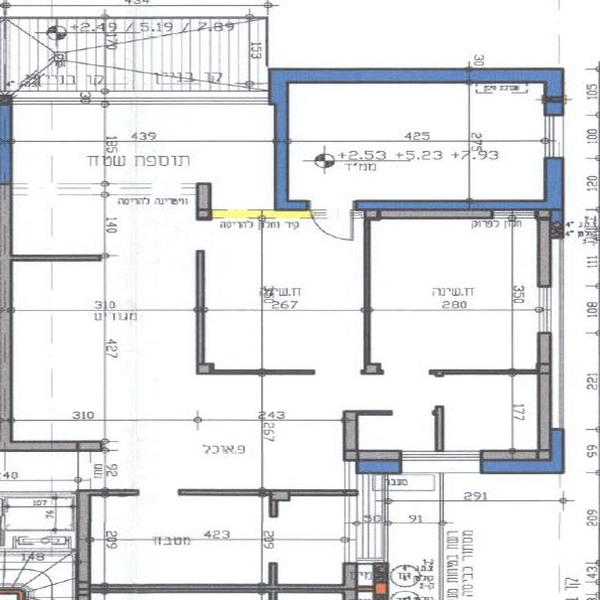door: (307, 208, 364, 248)
wall: (269, 68, 564, 84), (1, 103, 13, 452), (355, 198, 567, 214), (272, 70, 291, 212), (538, 332, 551, 459), (78, 490, 92, 598), (363, 213, 372, 374), (176, 490, 352, 498), (479, 447, 557, 464), (1, 441, 101, 453), (197, 250, 207, 367), (361, 208, 497, 216), (539, 215, 552, 288), (480, 461, 572, 470), (357, 460, 404, 477), (344, 411, 357, 457), (344, 563, 359, 600), (347, 452, 402, 462), (200, 184, 213, 221)
window: (407, 449, 476, 466), (544, 115, 564, 153), (537, 286, 553, 331)
